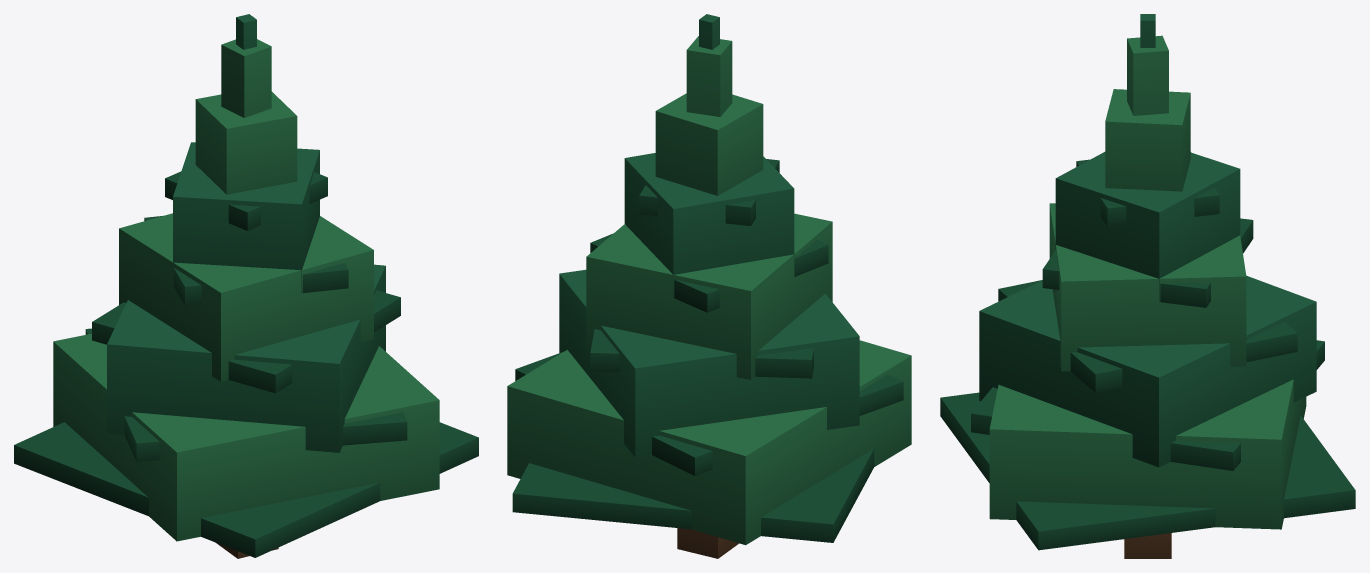
Rendered from A03_spruce_tall.glb.
3 renders of one model, left to right at view 1: azimuth 30°, elevation 25°; view 2: azimuth 150°, elevation 25°; view 3: azimuth 270°, elevation 25°, orthographic.
Parts seen in each view (by area): view 1: A03_spruce_tall; view 2: A03_spruce_tall; view 3: A03_spruce_tall.
Part boxes in pixels (<box>): A03_spruce_tall: <box>14,14,478,558</box>; A03_spruce_tall: <box>507,14,911,558</box>; A03_spruce_tall: <box>940,14,1355,558</box>.
Size of the model in its own units: 4.82 by 6.8 by 4.82.
